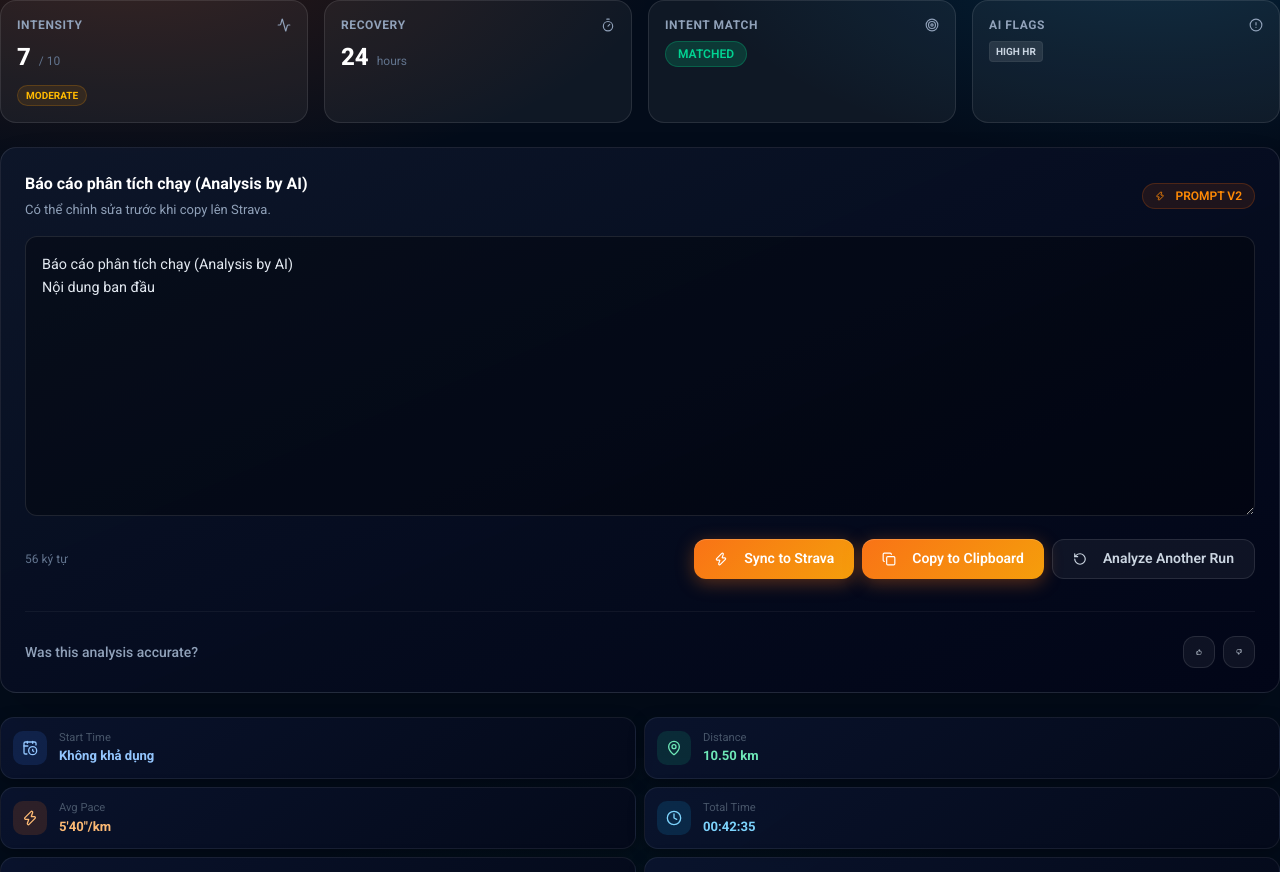
AnalysisDisplay › copies edited text to clipboard and shows feedback
Replace the text in the text box named "analysis text" with "Nội dung đã sửa để copy" at (640, 376), box [25, 236, 1255, 516]
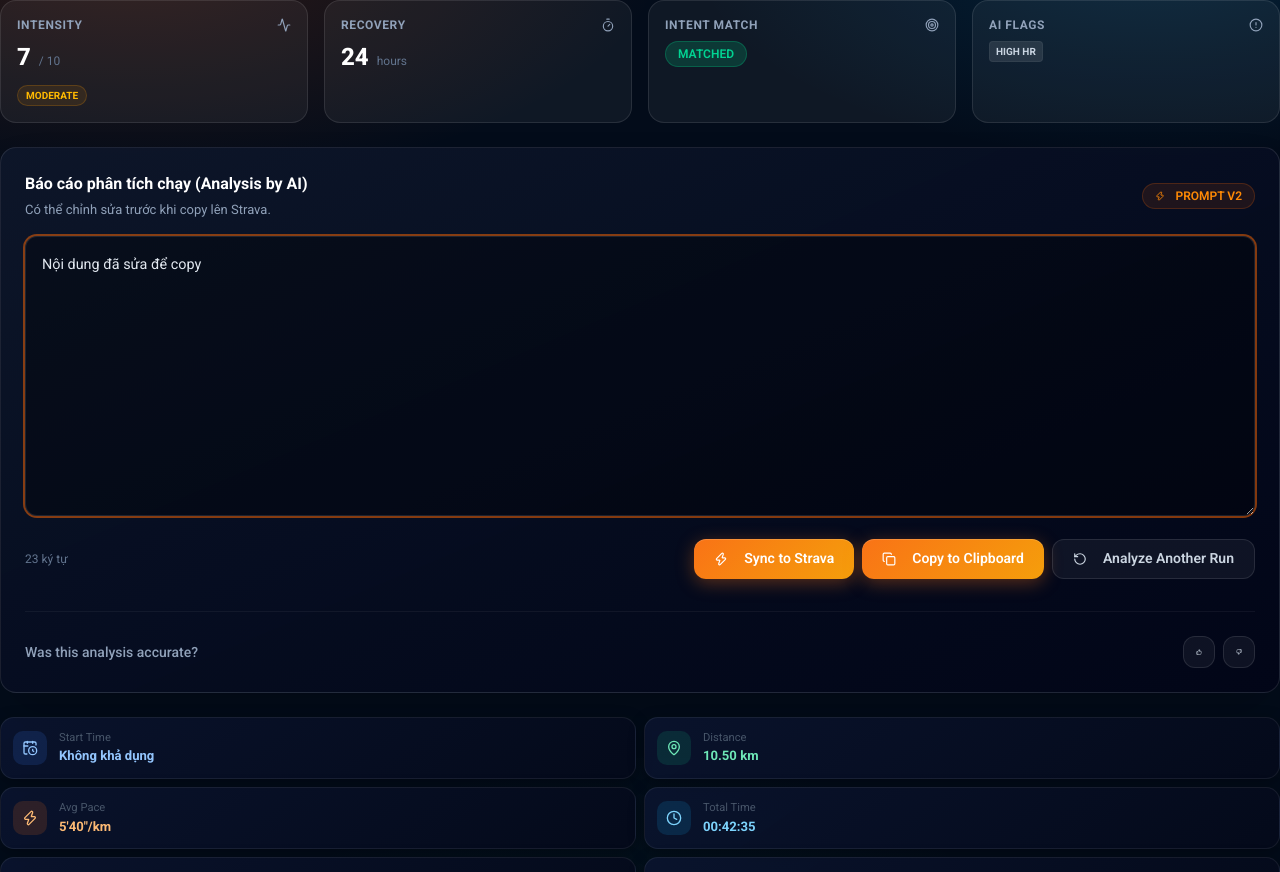
Click the button "Copy to Clipboard".
click(953, 558)  # box [862, 538, 1044, 578]
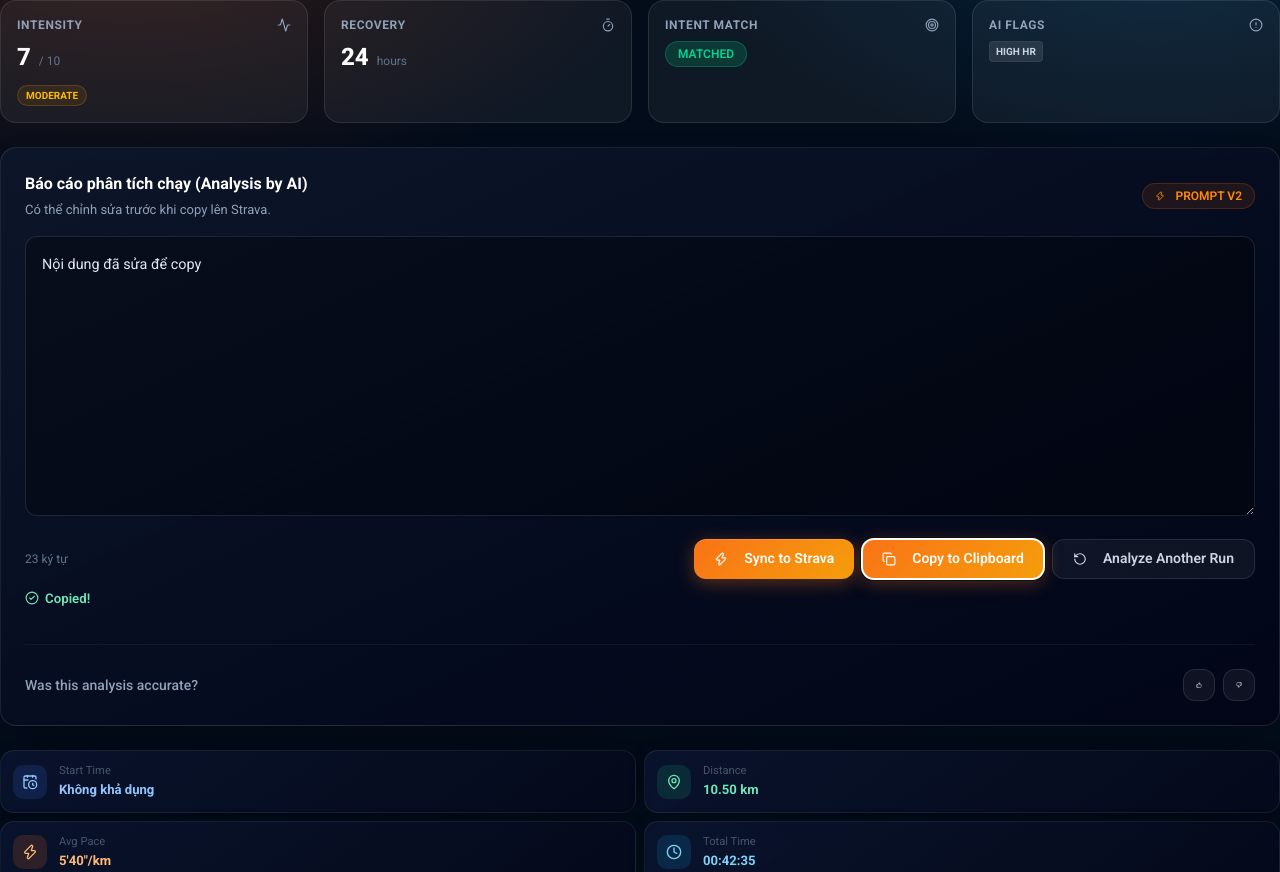
Expected: the text "Copied!" is shown, [25, 588, 90, 608]
